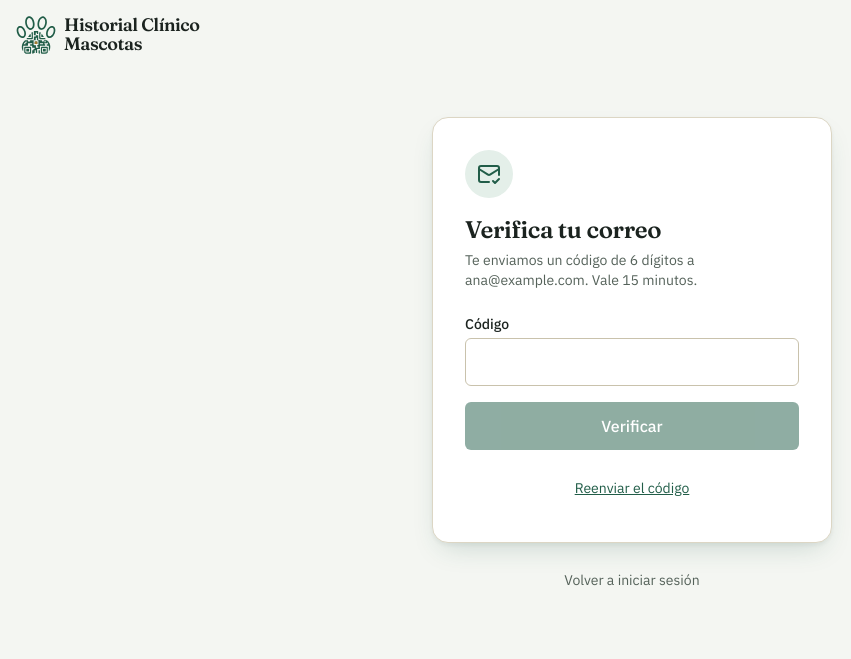
PaginaVerificacionCorreo › reenviar pide otro código sin revelar si el correo existe
Click the button "Reenviar el código" at [632, 488], box 465,466 -> 799,510
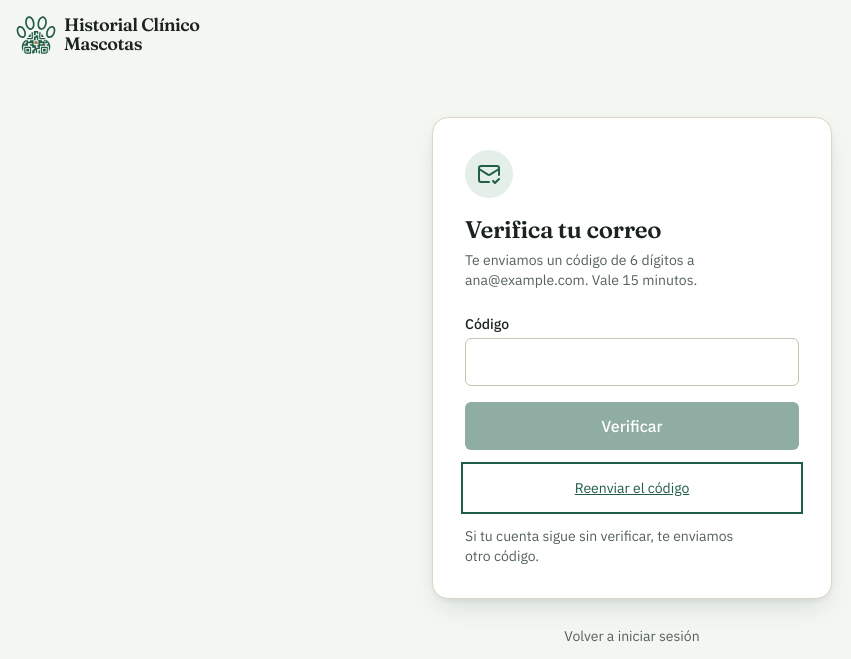
Check: the message shows "Si tu cuenta sigue sin verificar", box 465,527 -> 733,565
